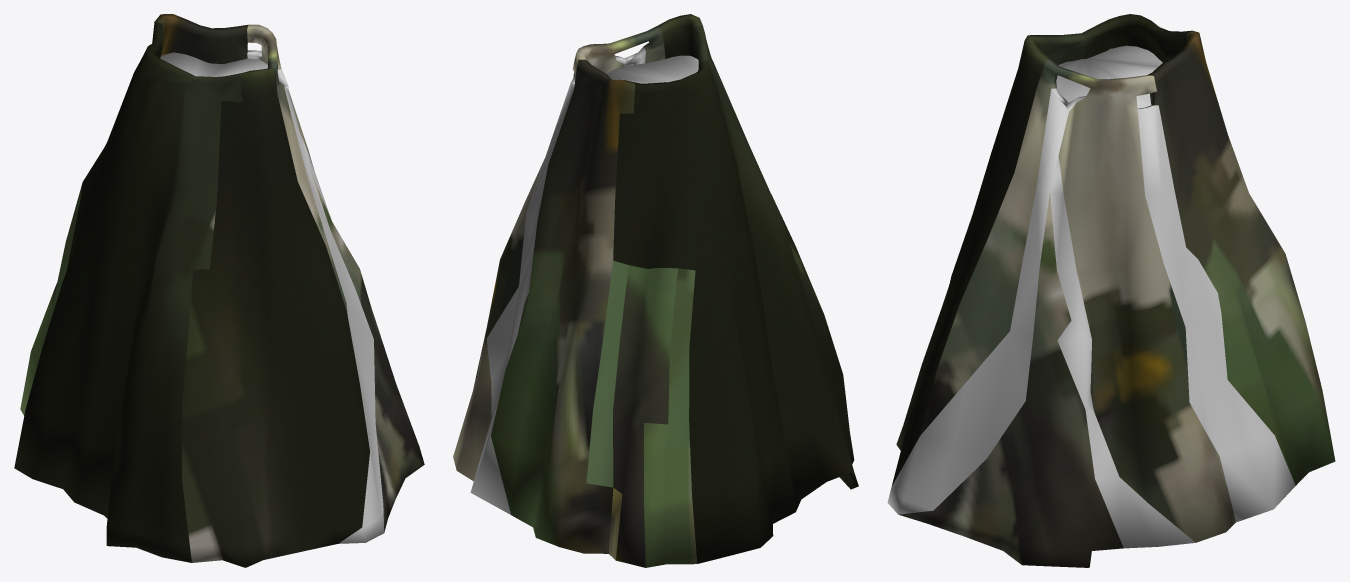
The model's file is Mount(Crater).fbx.
The picture shows the model from 3 angles, left to right: view 1: azimuth 30°, elevation 25°; view 2: azimuth 150°, elevation 25°; view 3: azimuth 270°, elevation 25°; orthographic projection. The views are drawn at different scales.
Visible parts, largest first — view 1: Mount_1.2(Crater); view 2: Mount_1.2(Crater); view 3: Mount_1.2(Crater).
Boxes of the visible parts, x1,y1,x2,y2 form: Mount_1.2(Crater): (14, 14, 424, 567); Mount_1.2(Crater): (453, 14, 858, 567); Mount_1.2(Crater): (887, 14, 1335, 567).
Bounding box in the file's own units: 21.58 × 27.44 × 24.84.
